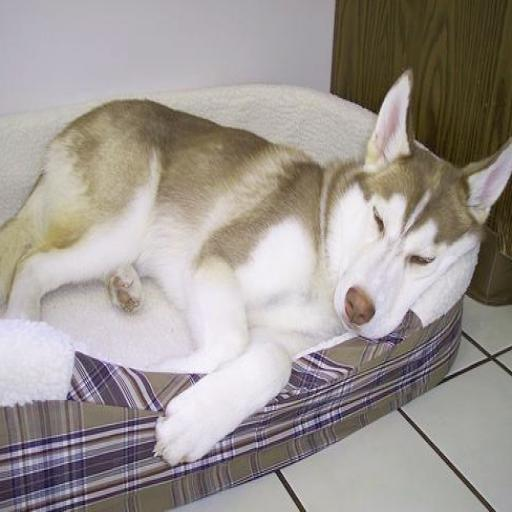dog_face: (349, 74, 512, 333)
